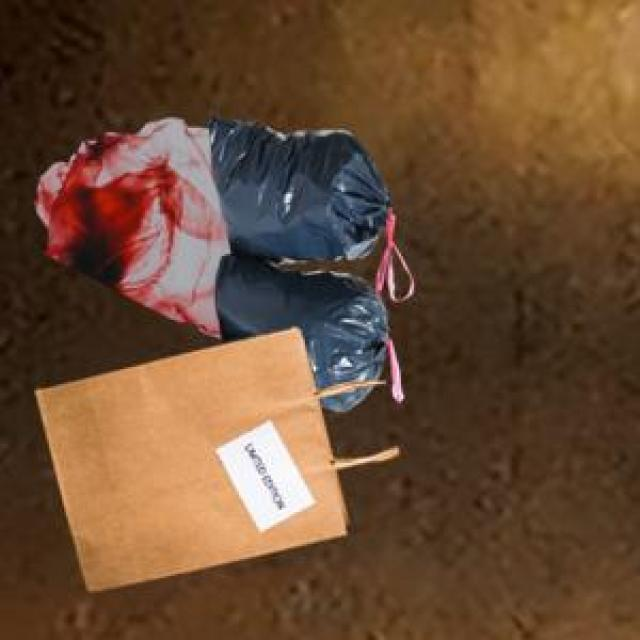miscellaneous trash: (205, 111, 399, 408)
paper: (33, 324, 395, 587)
